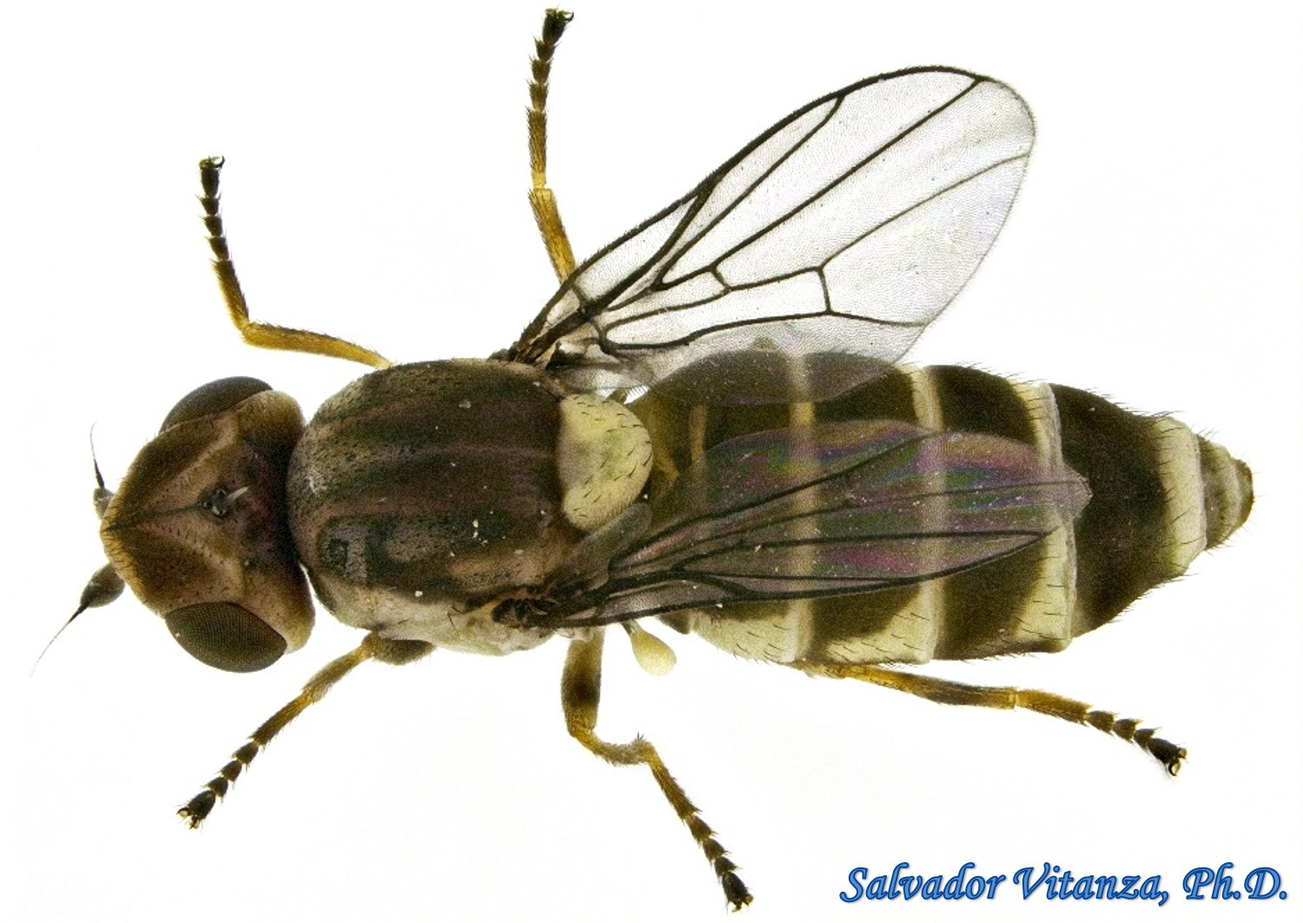Chloropidae: (29, 39, 1273, 868)
